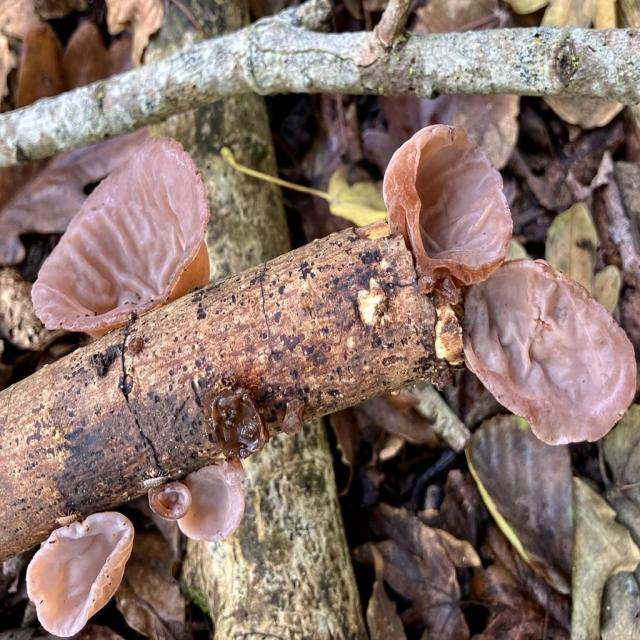Fase Muda: (379, 106, 638, 459), (27, 132, 260, 321), (25, 508, 146, 638), (150, 458, 267, 556)
